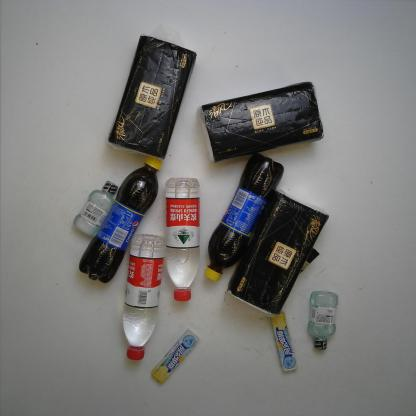Candy: (152, 330, 198, 384), (269, 306, 297, 372)
Drink: (80, 153, 164, 284), (202, 152, 286, 282), (122, 232, 166, 361), (164, 174, 202, 302)
Personal Hygiene: (72, 178, 117, 237), (304, 288, 339, 352)
Tissue: (224, 186, 328, 319), (106, 33, 198, 160), (197, 80, 326, 164)
